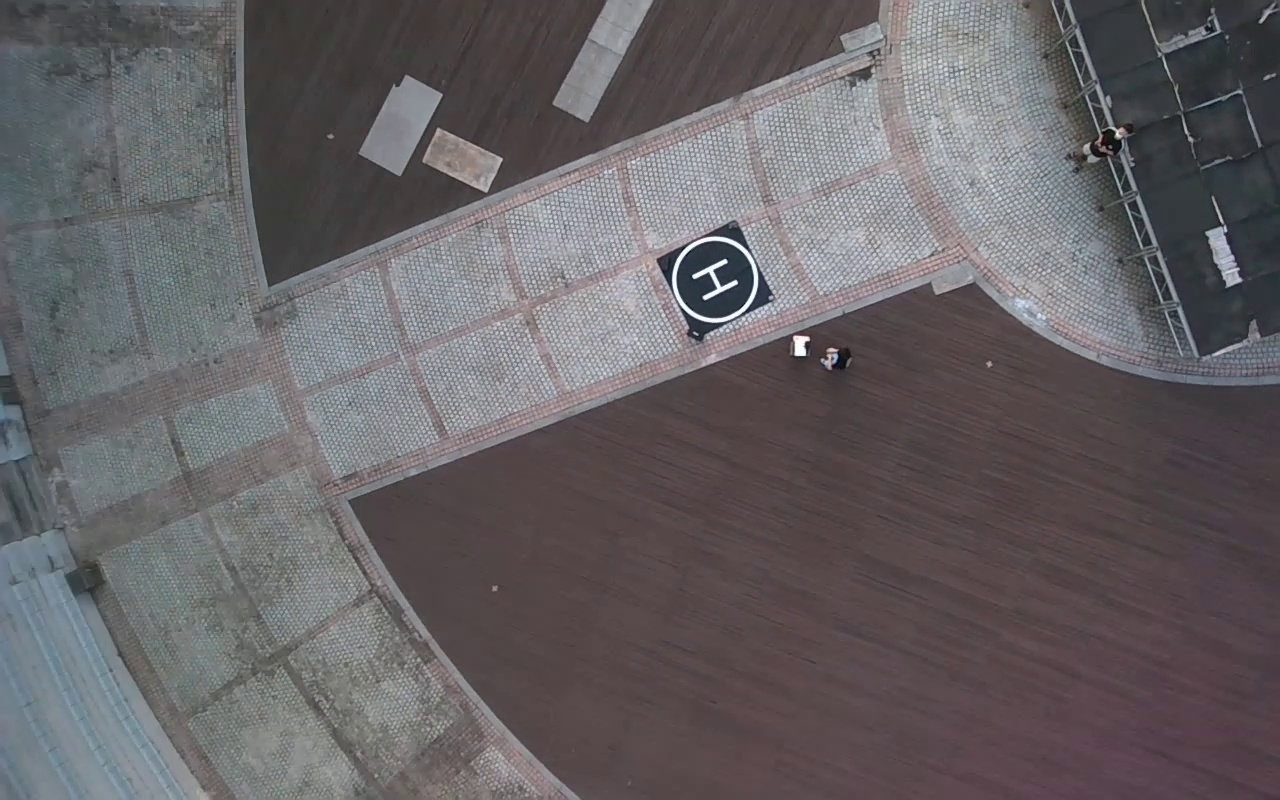H: (689, 257, 739, 300)
heliport: (673, 237, 759, 322)
